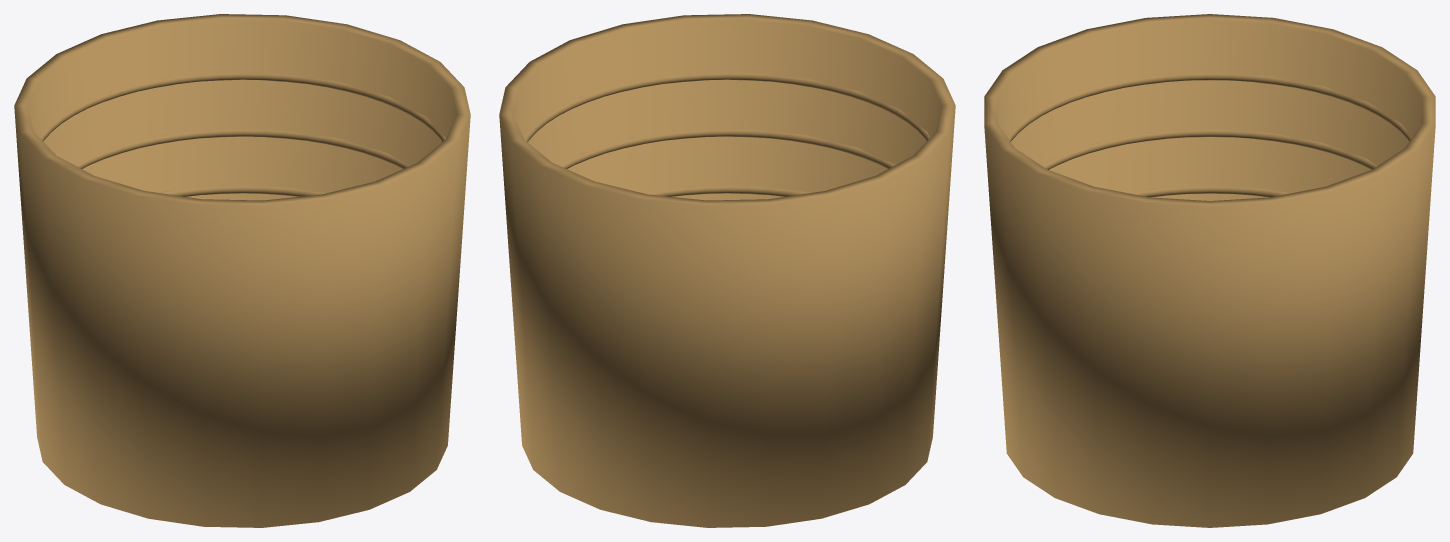
The model's file is i_basket_1.glb.
3 views of the same model, side by side, from view 1: azimuth 30°, elevation 25°; view 2: azimuth 150°, elevation 25°; view 3: azimuth 270°, elevation 25° (orthographic).
Parts seen in each view (by area): view 1: o, o.005, o.004, o.003; view 2: o, o.005, o.004, o.003; view 3: o, o.005, o.004, o.003.
Part boxes in pixels (x1=…): o: x1=14, y1=14, x2=470, y2=527; o.005: x1=40, y1=72, x2=445, y2=142; o.004: x1=74, y1=129, x2=409, y2=168; o.003: x1=160, y1=185, x2=325, y2=196; o: x1=499, y1=14, x2=955, y2=527; o.005: x1=524, y1=72, x2=929, y2=142; o.004: x1=560, y1=129, x2=895, y2=168; o.003: x1=644, y1=185, x2=809, y2=196; o: x1=984, y1=14, x2=1435, y2=527; o.005: x1=1008, y1=72, x2=1411, y2=141; o.004: x1=1043, y1=128, x2=1376, y2=169; o.003: x1=1130, y1=185, x2=1289, y2=197.
Size of the model in its own units: 0.4 by 0.32 by 0.3959.
